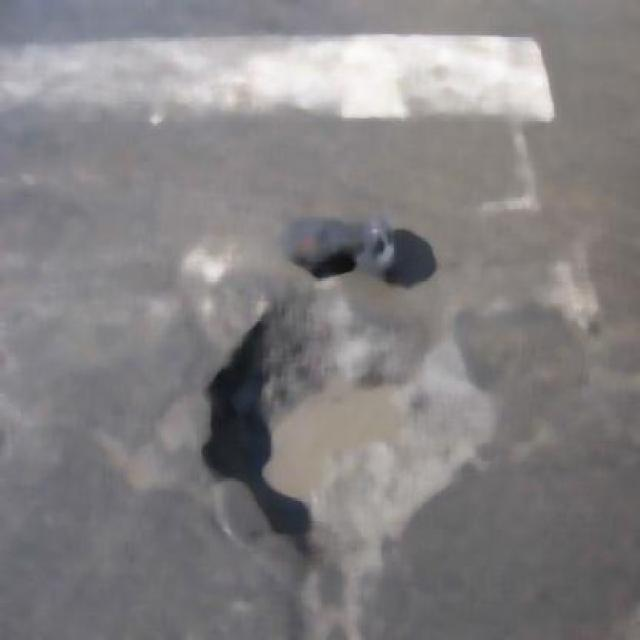Buraco: (196, 280, 506, 640)
